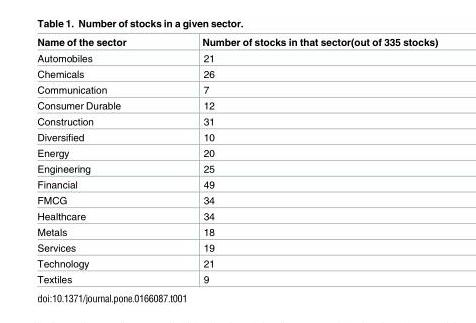table: (36, 37, 437, 284)
table column: (163, 37, 437, 284), (36, 37, 163, 284)
table column header: (36, 37, 437, 50)
table row: (36, 50, 437, 66), (36, 66, 437, 82), (36, 97, 437, 113), (36, 113, 437, 129), (36, 129, 437, 145), (36, 145, 437, 161), (36, 176, 437, 192), (36, 192, 437, 208), (36, 208, 437, 224), (36, 224, 437, 240), (36, 255, 437, 271), (36, 82, 437, 97), (36, 161, 437, 176), (36, 240, 437, 255), (36, 37, 437, 50), (36, 271, 437, 284)
